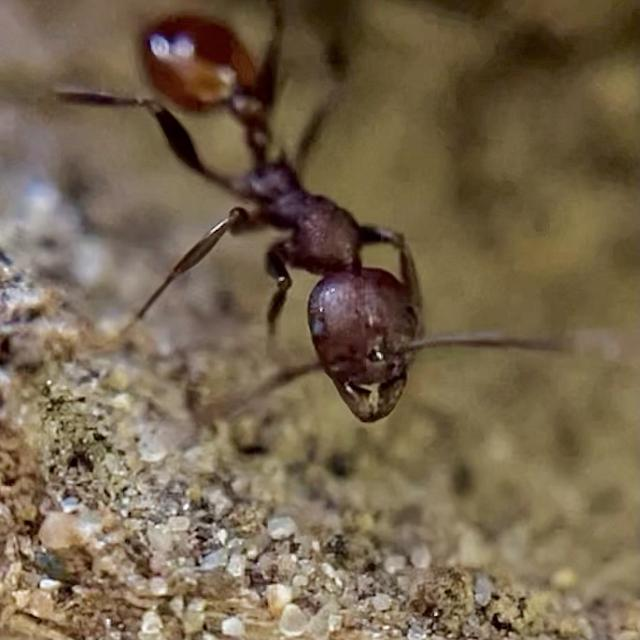Apheanogaster: (64, 0, 506, 462)
